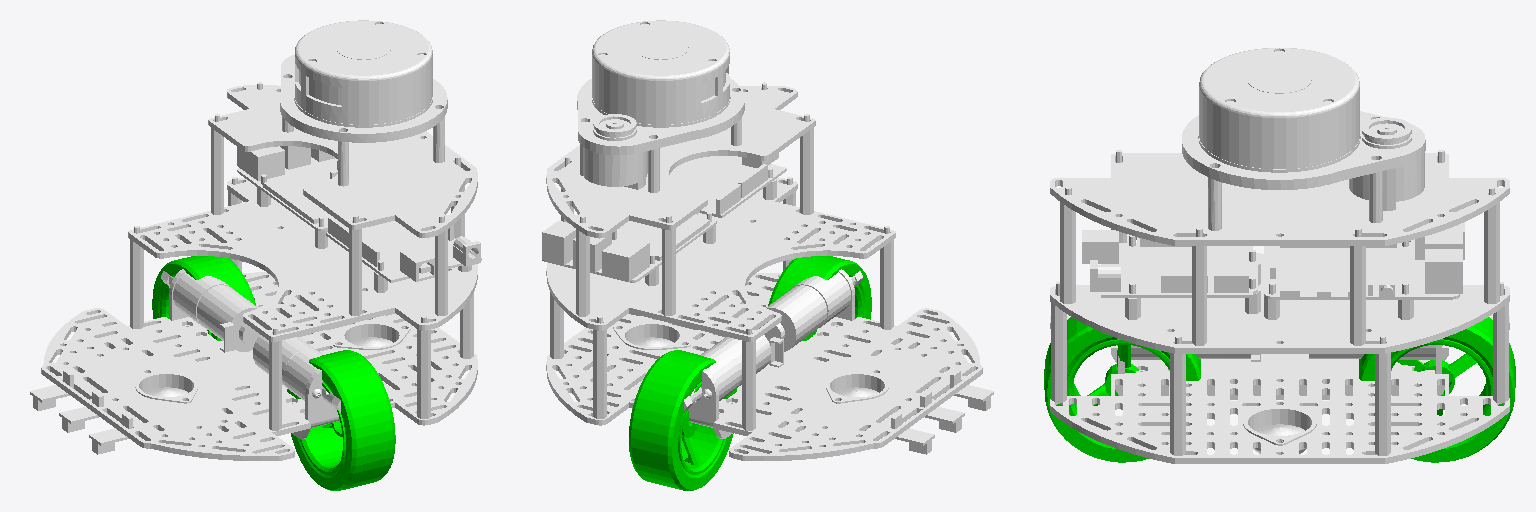
robot.urdf — axaxabot:
<?xml version="1.0"?>

<robot name="axaxabot">

	<material name="Green">
		<color rgba="0.0 1.0 0.0 1.0"/>
	</material>
	<material name="Blue">
		<color rgba="0.0 0.0 1.0 1.0"/>
	</material>
	<material name="Red">
		<color rgba="1.0 0.0 0.0 1.0"/>
	</material>
	<material name="White">
		<color rgba="1.0 1.0 1.0 1.0"/>
	</material>
	<material name="Yellow">
		<color rgba="1.0 1.0 0.0 1.0"/>
	</material>
	<material name="Black">
		<color rgba="0.0 0.0 0.0 1.0"/>
	</material>
	<material name="White_Transparent">
		<color rgba="1.0 1.0 1.0 0.4"/>
	</material>


	<joint name="base_link_to_robot_base" type="fixed">
		<origin xyz="0 0 0" rpy="0 0 0" />
		<parent link="base_link" />
		<child link="robot_base" />
	</joint>

	<joint name="left_wheel_to_base" type="continuous">
		<origin xyz="0 0.068 0.0145" rpy="0 0 0" />
		<parent link="robot_base" />
		<child link="robot_left_wheel" />
		<axis xyz="0 1 0" />
	</joint>

	<joint name="right_wheel_to_base" type="continuous">
		<origin xyz="0 -0.068 0.0145" rpy="0 0 0" />
		<parent link="robot_base" />
		<child link="robot_right_wheel" />
		<axis xyz="0 1 0" />
	</joint>

	<joint name="caster_wheel_1_to_base" type="continuous">
		<origin xyz="-0.078 0 -0.011" rpy="0 0 0" />
		<parent link="robot_base" />
		<child link="robot_caster_wheel_1" />
		<axis xyz="0 1 0" />
	</joint>

	<joint name="caster_wheel_2_to_base" type="continuous">
		<origin xyz="0.078 0 -0.011" rpy="0 0 0" />
		<parent link="robot_base" />
		<child link="robot_caster_wheel_2" />
		<axis xyz="0 1 0" />
	</joint>



	<link name="base_link">
		<visual>
			<origin xyz="0 0 0" rpy="0 0 0" />
			<geometry>
				<sphere radius="0.001" />
			</geometry>
		</visual>
	</link>


	<link name="robot_base">
		<inertial>
			<origin xyz="-0.024498 1.0952E-13 0.022295" rpy="0 0 0"/>
			<mass value="0.27459"/>
			<inertia ixx="0.00032396" ixy="-1.1142E-12" ixz="-9.1302E-06" iyy="0.00030091" iyz="-3.3253E-10" izz="0.00056103"/>
		</inertial>

		<visual>
			<origin xyz="0 0 0" rpy="0 0 0" />
			<geometry>
				<mesh filename="package://robot_description/meshes/robot_base.stl" />
			</geometry>
			<material name="White_Transparent" />
		</visual>

		<collision>
			<origin xyz="0 0 0" rpy="0 0 0" />
			<geometry>
				<mesh filename="package://robot_description/meshes/robot_base.stl" />
			</geometry>
		</collision>
	</link>


	<link name="robot_left_wheel">
		<inertial>
			<origin xyz="1.9255E-10 0.00056576 -1.0414E-10" rpy="0 0 0"/>
			<mass value="0.050464"/>
			<inertia ixx="2.0701E-05" ixy="-3.8089E-14" ixz="1.3584E-15" iyy="3.5827E-05" iyz="2.1838E-15" izz="2.0701E-05"/>
		</inertial>

		<visual>
			<origin xyz="0 0 0" rpy="0 0 0" />
			<geometry>
				<mesh filename="package://robot_description/meshes/robot_wheel_l.stl" />
			</geometry>
			<material name="Green" />
		</visual>

		<collision>
			<origin xyz="0 0 0" rpy="0 0 0" />
			<geometry>
				<mesh filename="package://robot_description/meshes/robot_wheel_l.stl" />
			</geometry>
		</collision>
	</link>


	<link name="robot_right_wheel">
		<inertial>
			<origin xyz="1.9255E-10 -0.00056576 1.0414E-10" rpy="0 0 0"/>
			<mass value="0.050464"/>
			<inertia ixx="2.0701E-05" ixy="3.8089E-14" ixz="-1.3584E-15" iyy="3.5827E-05" iyz="2.1838E-15" izz="2.0701E-05"/>
		</inertial>

		<visual>
			<origin xyz="0 0 0" rpy="0 0 0" />
			<geometry>
				<mesh filename="package://robot_description/meshes/robot_wheel_r.stl" />
			</geometry>
			<material name="Green" />
		</visual>

		<collision>
			<origin xyz="0 0 0" rpy="0 0 0" />
			<geometry>
				<mesh filename="package://robot_description/meshes/robot_wheel_r.stl" />
			</geometry>
		</collision>
	</link>


	<link name="robot_caster_wheel_1">
		<inertial>
			<origin xyz="0 1.6073E-19 0" rpy="0 0 0"/>
			<mass value="0.011207"/>
			<inertia ixx="2.1965E-07" ixy="-1.5533E-55" ixz="-1.9776E-56" iyy="2.1965E-07" iyz="-2.2674E-40" izz="2.1965E-07"/>
		</inertial>

		<visual>
			<origin xyz="0 0 0" rpy="0 0 0" />
			<geometry>
				<mesh filename="package://robot_description/meshes/robot_wheel_center.stl" />
			</geometry>
			<material name="Green" />
		</visual>

		<collision>
			<origin xyz="0 0 0" rpy="0 0 0" />
			<geometry>
				<mesh filename="package://robot_description/meshes/robot_wheel_r.stl" />
			</geometry>
		</collision>
	</link>


	<link name="robot_caster_wheel_2">
		<inertial>
			<origin xyz="0 1.6073E-19 0" rpy="0 0 0"/>
			<mass value="0.011207"/>
			<inertia ixx="2.1965E-07" ixy="-1.5533E-55" ixz="-1.9776E-56" iyy="2.1965E-07" iyz="-2.2674E-40" izz="2.1965E-07"/>
		</inertial>

		<visual>
			<origin xyz="0 0 0" rpy="0 0 0" />
			<geometry>
				<mesh filename="package://robot_description/meshes/robot_wheel_center.stl" />
			</geometry>
			<material name="Green" />
		</visual>

		<collision>
			<origin xyz="0 0 0" rpy="0 0 0" />
			<geometry>
				<mesh filename="package://robot_description/meshes/robot_wheel_r.stl" />
			</geometry>
		</collision>
	</link>
</robot>

--- Render facts (derived) ---
Views: 3 orthographic renders of the robot side by side, from view 1: azimuth 30°, elevation 25°; view 2: azimuth 150°, elevation 25°; view 3: azimuth 270°, elevation 25°.
Model axaxabot with 6 links and 5 joints (4 continuous, 1 fixed), rooted at base_link, posed all joints at 0.
Links seen in each view (by area): view 1: robot_base, robot_right_wheel, robot_left_wheel; view 2: robot_base, robot_left_wheel, robot_right_wheel; view 3: robot_base, robot_left_wheel, robot_right_wheel.
Link boxes in pixels (x1=…): robot_base: x1=30, y1=20, x2=481, y2=460; robot_right_wheel: x1=287, y1=350, x2=395, y2=490; robot_left_wheel: x1=152, y1=256, x2=255, y2=340; robot_base: x1=542, y1=20, x2=993, y2=460; robot_left_wheel: x1=629, y1=350, x2=736, y2=490; robot_right_wheel: x1=768, y1=256, x2=871, y2=340; robot_base: x1=1050, y1=48, x2=1509, y2=463; robot_left_wheel: x1=1359, y1=317, x2=1515, y2=462; robot_right_wheel: x1=1044, y1=317, x2=1200, y2=462.
Bounding box of the posed robot: 0.217 × 0.2047 × 0.203 m (x, y, z).
Meshes: 4 distinct files referenced, 3 mesh visuals loaded (3 binary STL); not drawn: 2 (reference not matched to a file when rendering).